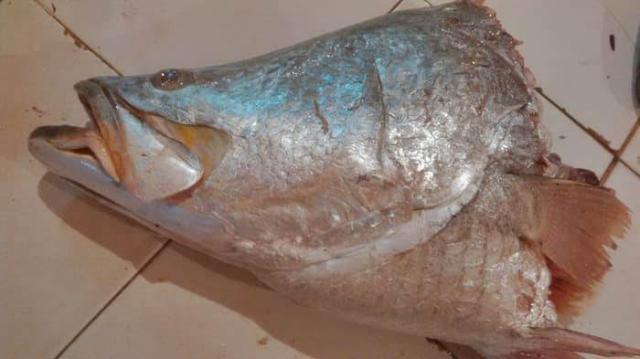Mulut: (14, 48, 160, 240)
Sirip Dada: (502, 150, 640, 298)
Sirip Perut: (494, 311, 640, 359)
